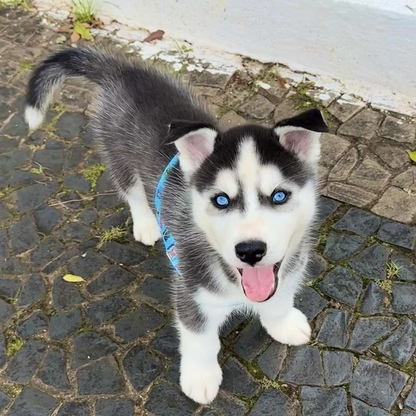husky: (20, 44, 332, 410)
